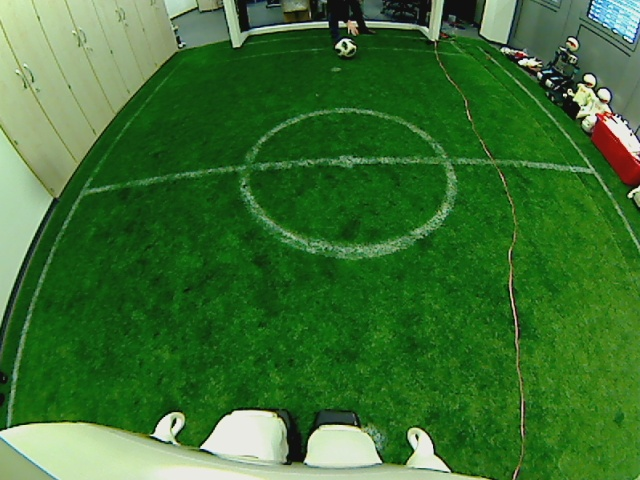ball: (335, 38, 358, 58)
